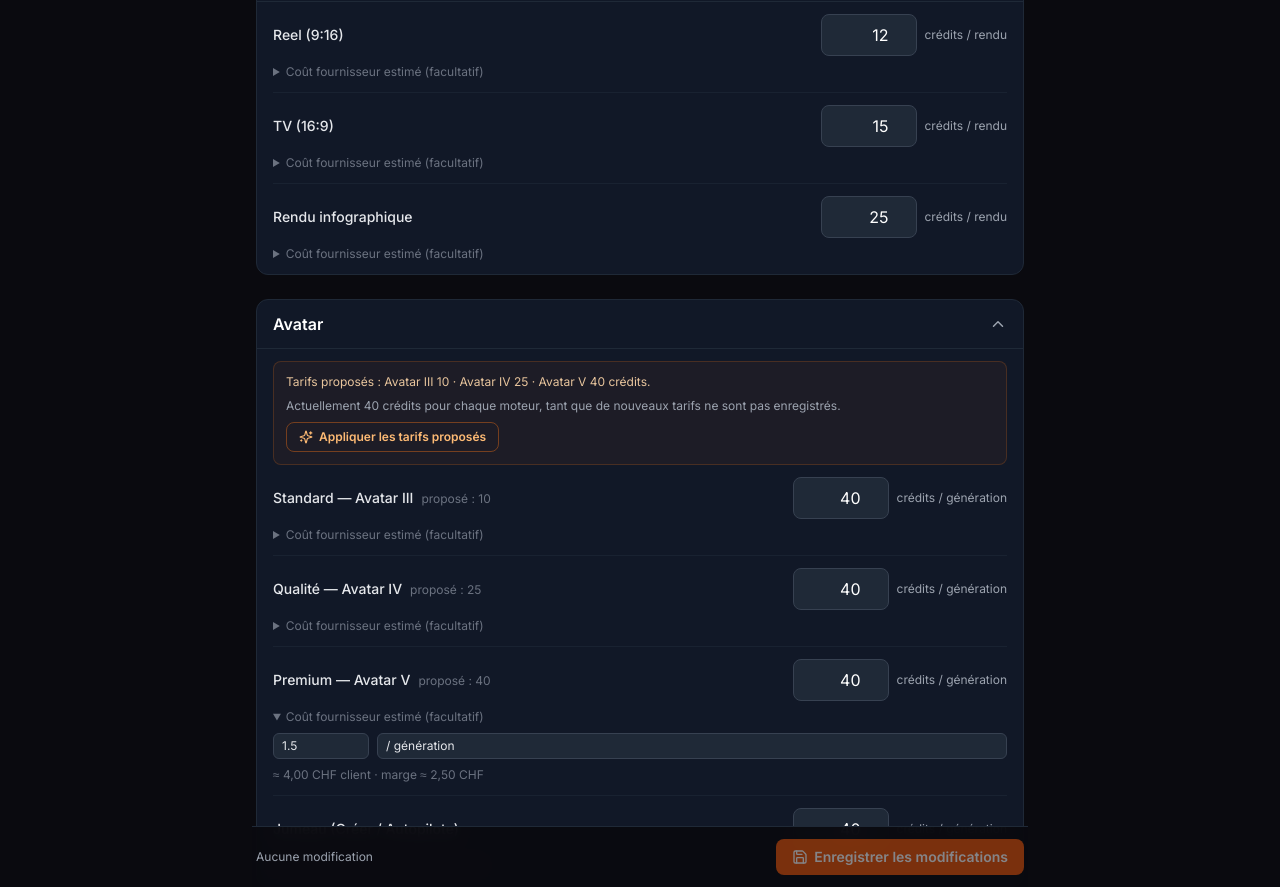
Test case: /admin/tarifs › « Appliquer les tarifs proposés » remplit 10/25/40 sans enregistrer
(page scrolled)
What coordinates should you click on to do the following:
click the button "Appliquer les tarifs proposés"
I would click on:
 (393, 437)
Its box is [286, 422, 499, 452].
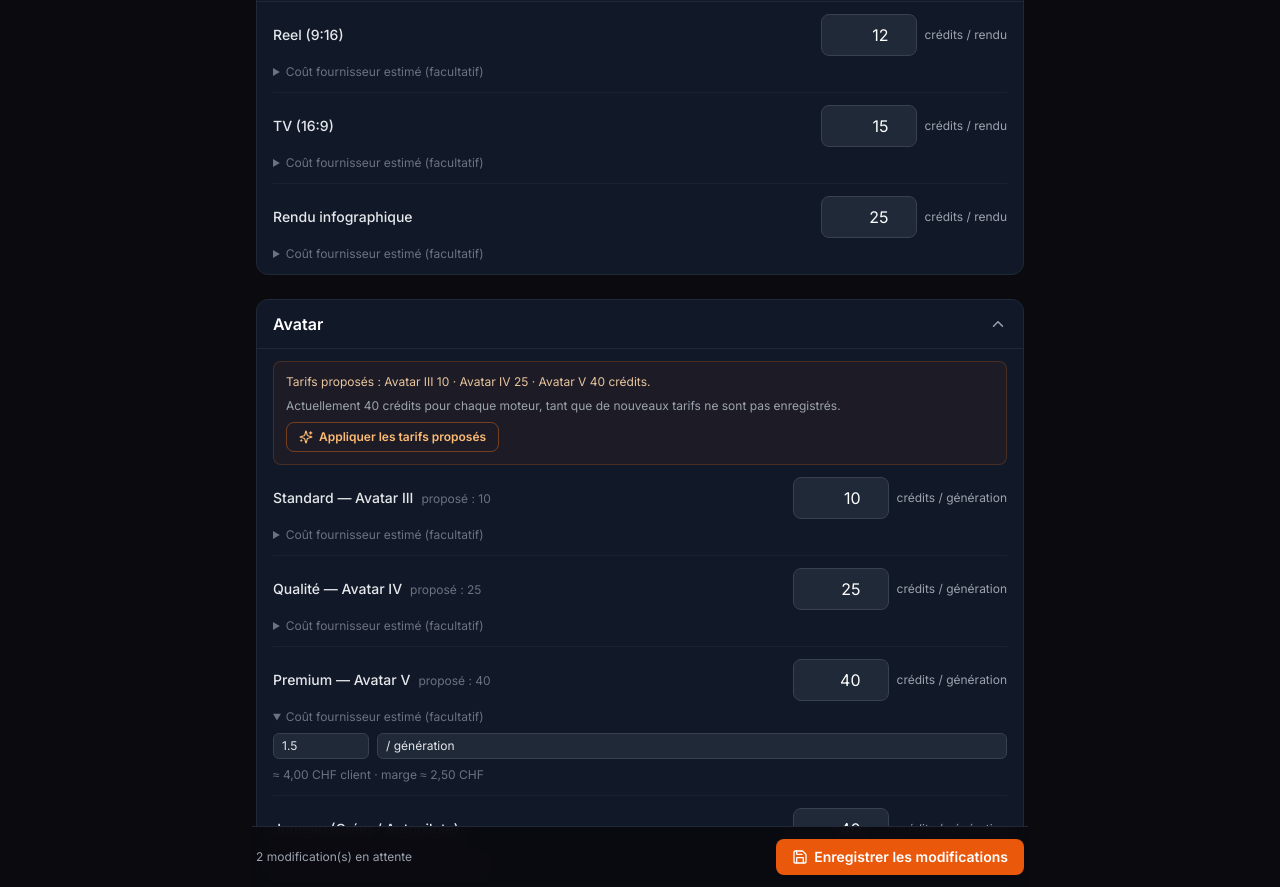
Check: the number field labelled "Standard — Avatar III" holds "10", box [792, 477, 888, 519]
Check: the number field labelled "Qualité — Avatar IV" holds "25", box [792, 568, 888, 610]
Check: the button "Enregistrer les modifications" is enabled
What coordinates should you click on to do the following:
click the button "Enregistrer les modifications"
I would click on:
 (900, 857)
Its box is [776, 839, 1024, 875].
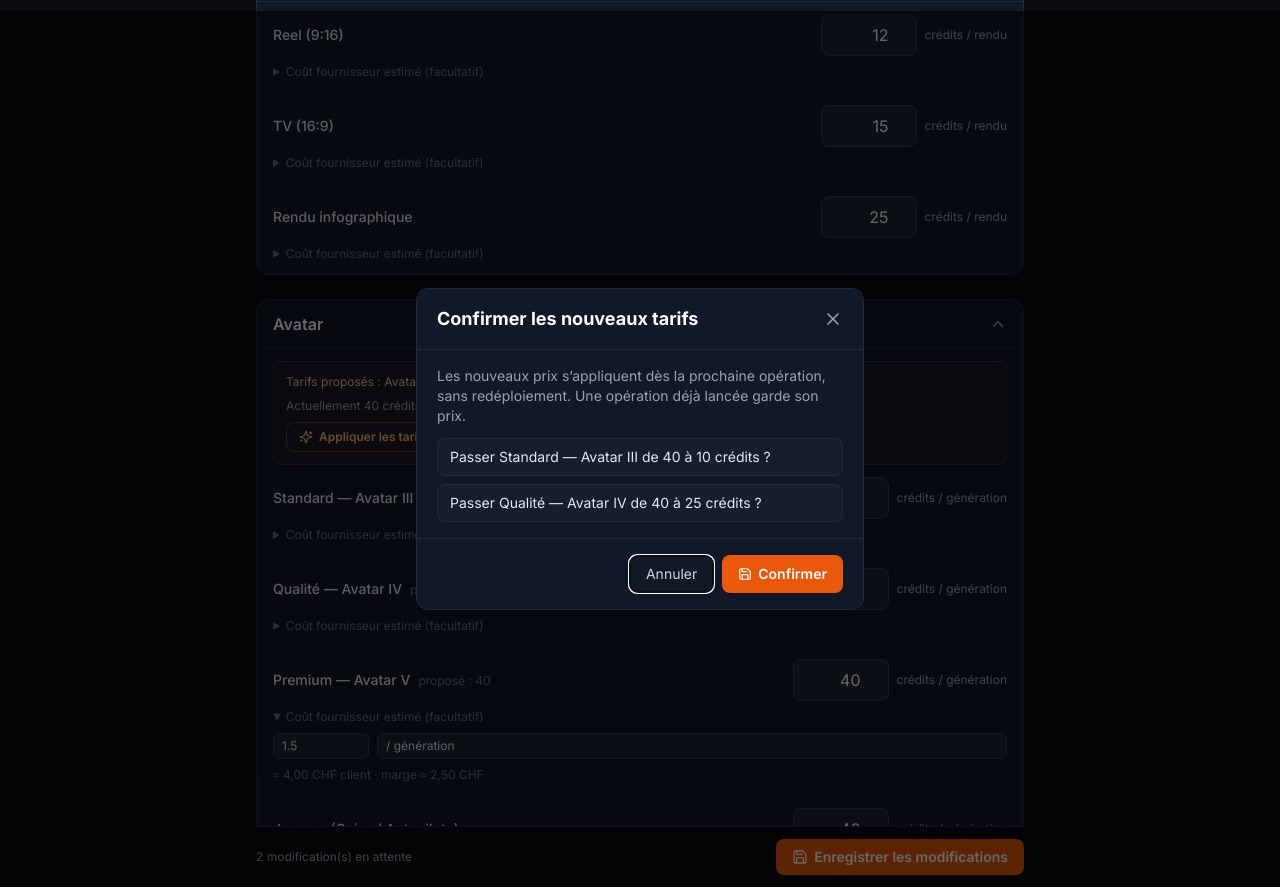
Check: the list items read "Passer Standard — Avatar III de 40 à 10 crédits ?", "Passer Qualité — Avatar IV de 40 à 25 crédits ?", in this order, box [437, 438, 843, 476]; [437, 484, 843, 522]
